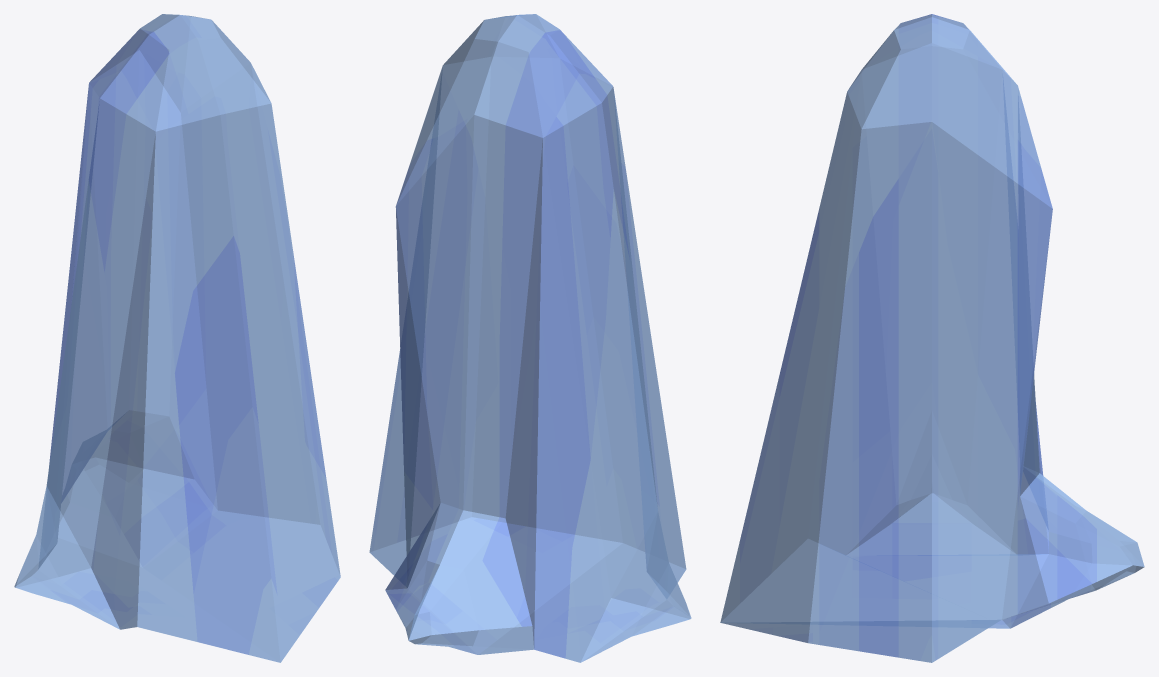
Rendered from PixelCrystal2.glb.
The picture shows the model from 3 angles, left to right: view 1: azimuth 30°, elevation 25°; view 2: azimuth 150°, elevation 25°; view 3: azimuth 270°, elevation 25°; orthographic projection. The views are drawn at different scales.
Parts seen in each view (by area): view 1: Cube; view 2: Cube; view 3: Cube.
Boxes of the visible parts, bbox=[...] form: Cube: bbox=[14, 14, 340, 662]; Cube: bbox=[369, 14, 691, 662]; Cube: bbox=[720, 14, 1144, 662].
Bounding box in the file's own units: 1.83 × 3.32 × 2.09.
Materials: 1 (1 with a texture image).
